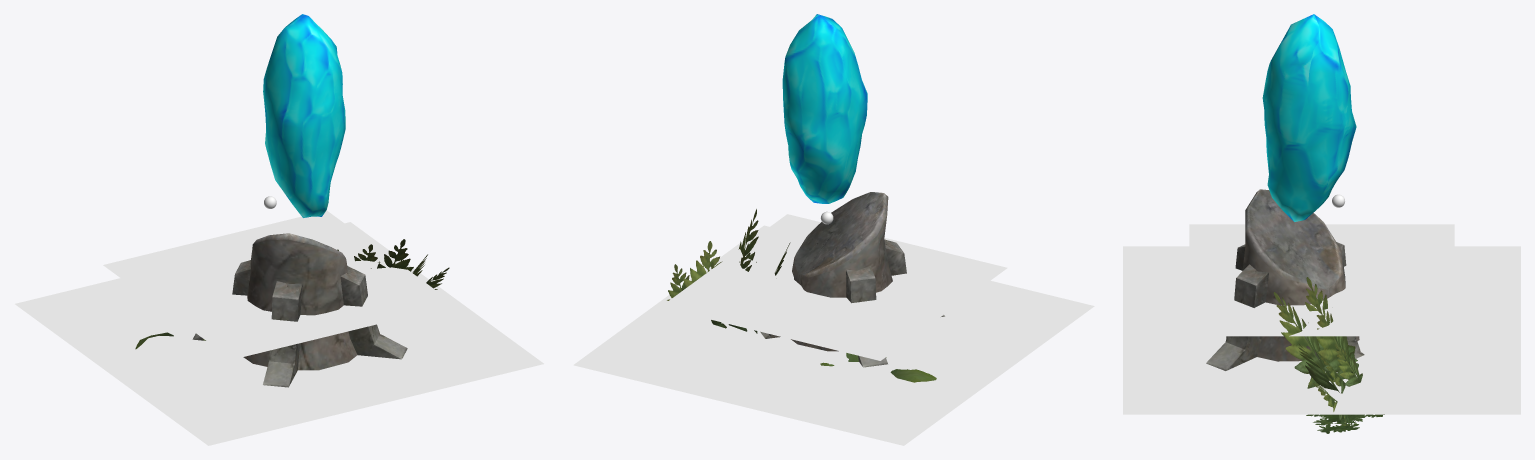
File: crystal.fbx
3 views of the same model, side by side, from view 1: azimuth 30°, elevation 25°; view 2: azimuth 150°, elevation 25°; view 3: azimuth 270°, elevation 25° (orthographic). The views are drawn at different scales.
Parts seen in each view (by area): view 1: Circle_A, Circle_B, Tower_C__5_, Crystal_B__5_, Grass_C_1__38_; view 2: Circle_A, Circle_B, Crystal_B__5_, Tower_C__5_, Grass_C_1__38_, Grass_E_2__10_; view 3: Circle_A, Circle_B, Crystal_B__5_, Tower_C__5_, Grass_C_1__38_, Grass_B_1__108_.
Boxes of the visible parts, box(x1,y1,x2,y2) form: Circle_A: box(15, 222, 543, 445); Circle_B: box(103, 210, 455, 359); Tower_C__5_: box(192, 233, 407, 387); Crystal_B__5_: box(263, 14, 345, 217); Grass_C_1__38_: box(337, 239, 449, 289); Circle_A: box(573, 225, 1094, 445); Circle_B: box(660, 214, 1007, 360); Crystal_B__5_: box(782, 14, 867, 203); Tower_C__5_: box(760, 192, 944, 367); Grass_C_1__38_: box(667, 209, 790, 333); Grass_E_2__10_: box(820, 353, 936, 382); Circle_A: box(1123, 246, 1520, 414); Circle_B: box(1189, 224, 1454, 336); Crystal_B__5_: box(1262, 14, 1356, 221); Tower_C__5_: box(1206, 189, 1364, 370); Grass_C_1__38_: box(1273, 277, 1362, 427); Grass_B_1__108_: box(1306, 414, 1384, 433).
Size of the model in its own units: 0.7053 by 0.7134 by 0.6752.
